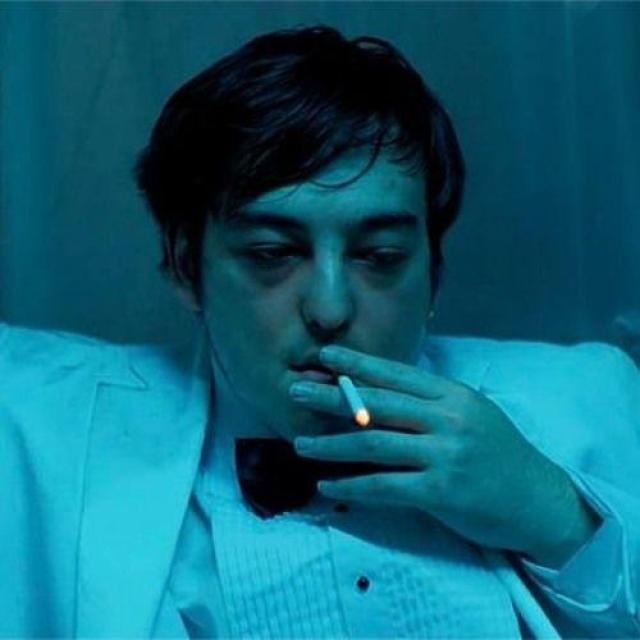cigarette: (318, 360, 400, 458)
